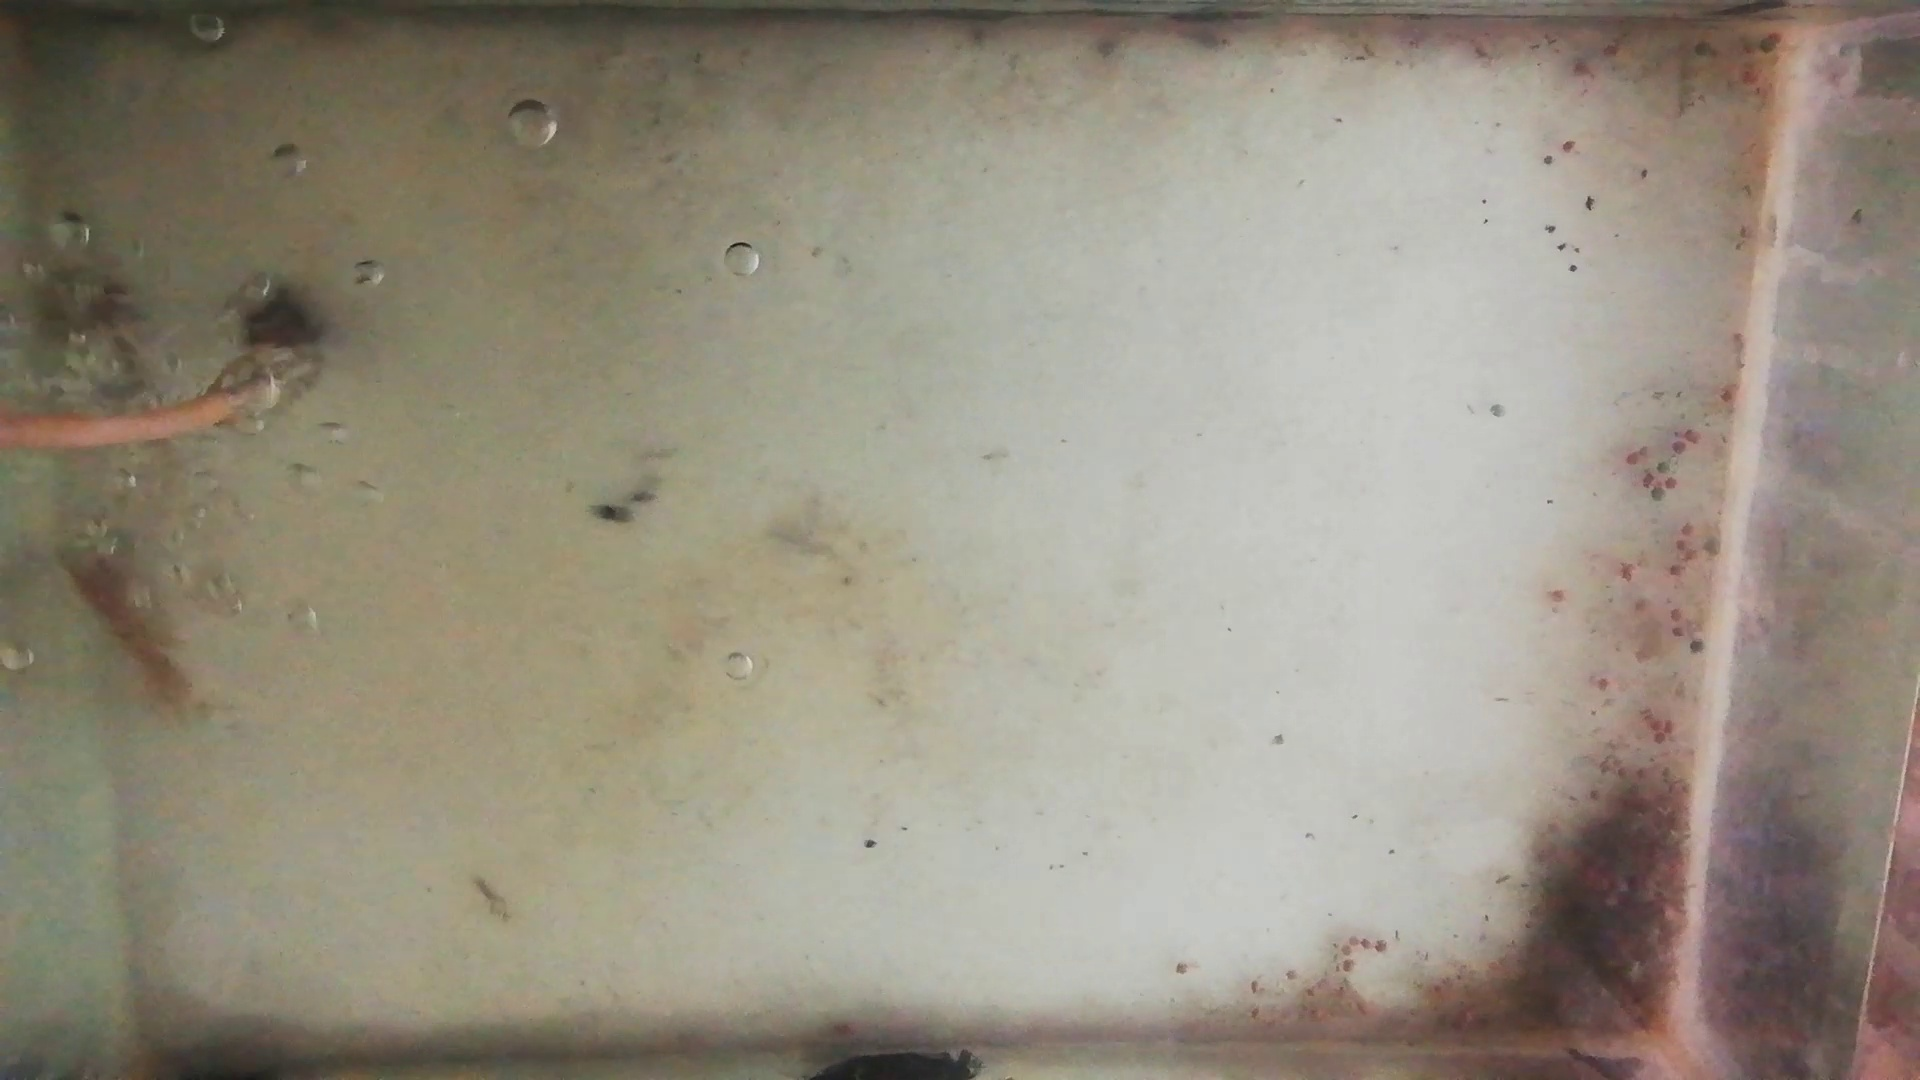fish: (51, 522, 185, 704), (40, 269, 156, 417)
